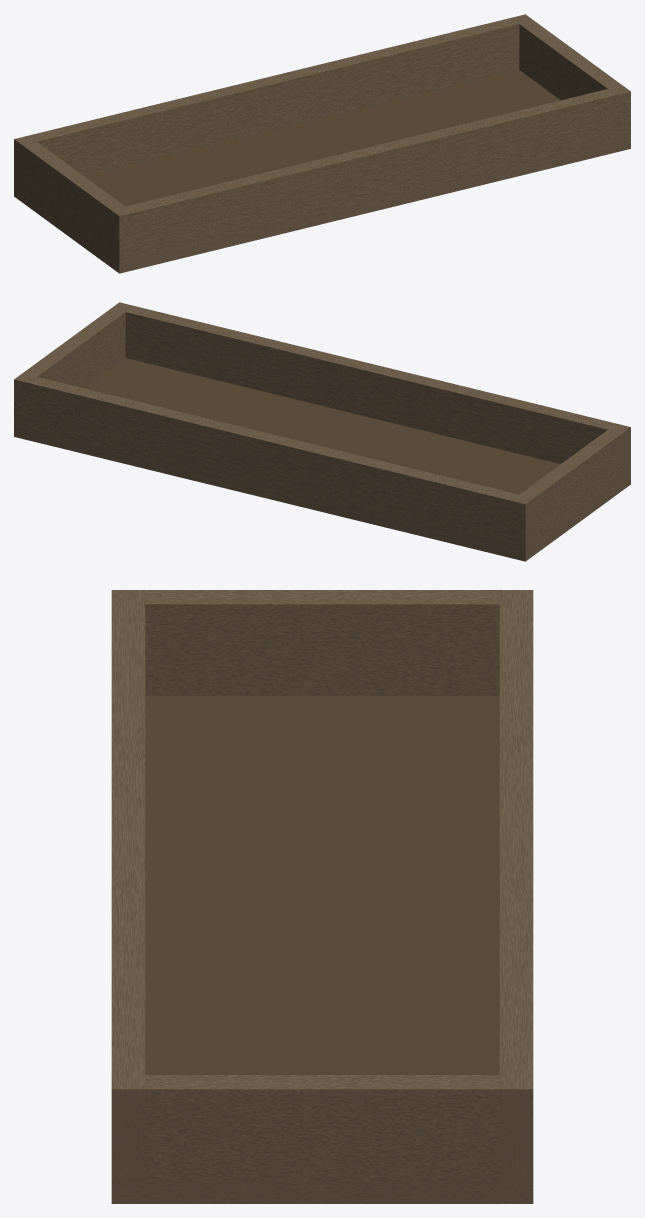
The model's file is tray.glb.
The picture shows the model from 3 angles, top to bottom: view 1: azimuth 30°, elevation 25°; view 2: azimuth 150°, elevation 25°; view 3: azimuth 270°, elevation 25°; orthographic projection. The views are drawn at different scales.
Visible parts, largest first — view 1: TrayWood, TrayFloor; view 2: TrayWood, TrayFloor; view 3: TrayFloor, TrayWood.
Part boxes in pixels (x1,y1,x2,y2): TrayWood: (14, 14, 630, 273); TrayFloor: (84, 70, 560, 206); TrayWood: (14, 302, 630, 561); TrayFloor: (84, 358, 560, 494); TrayFloor: (145, 696, 499, 1074); TrayWood: (111, 590, 533, 1203).
Bounding box in the file's own units: 0.14 × 0.015 × 0.05.
Materials: 2 (1 with a texture image).
